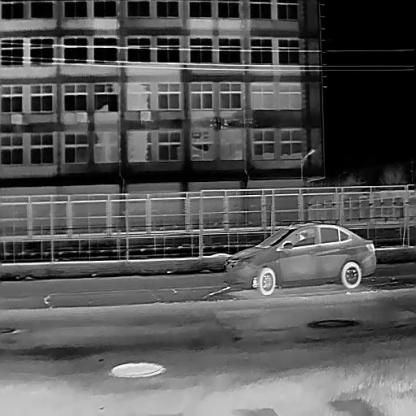car: (220, 220, 376, 295)
